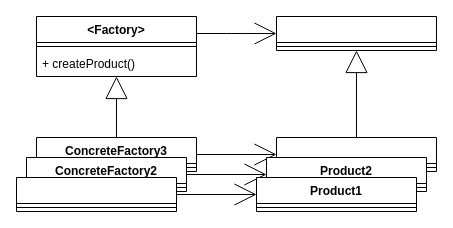
The diagram is 453 pixels wide and 228 high, and some of its shapes have lost their labels. The shapes that lost their labels are listed below. From the top down, each one's centre as x and y in pixels, then its label:
(x=356, y=33): Product
(x=356, y=154): Product3
(x=96, y=194): ConcreteFactory1
